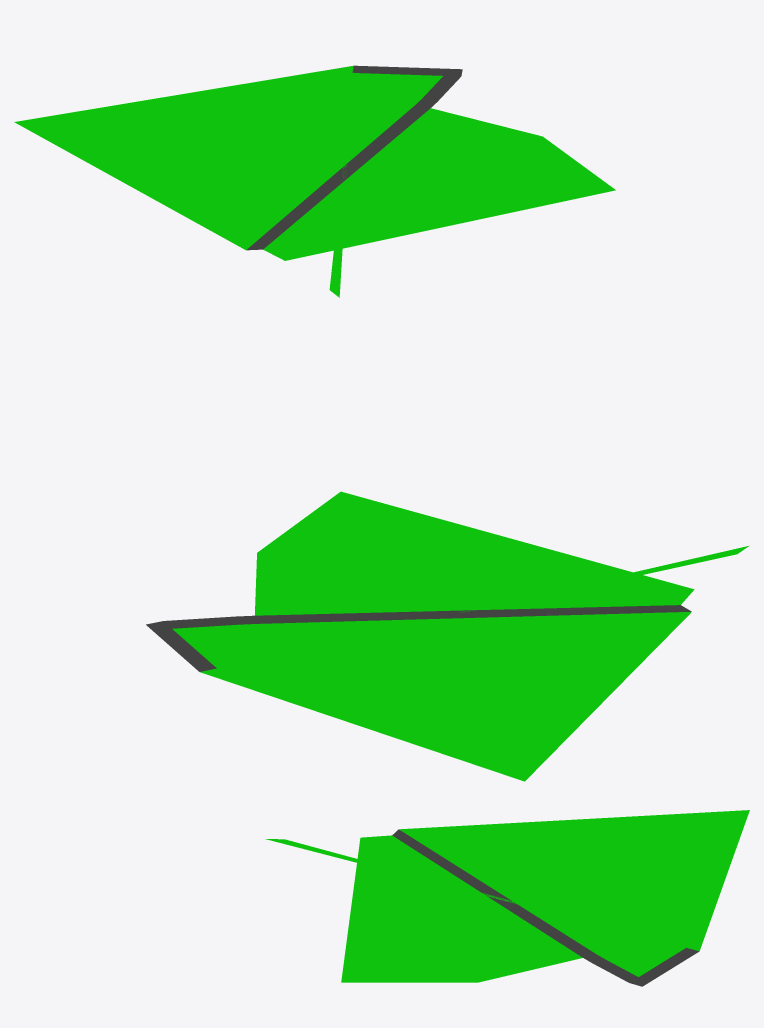
3 renders of one model, top to bottom at view 1: azimuth 30°, elevation 25°; view 2: azimuth 150°, elevation 25°; view 3: azimuth 270°, elevation 25°, orthographic. The views are drawn at different scales.
Size of the model in its own units: 106 by 0 by 162.
